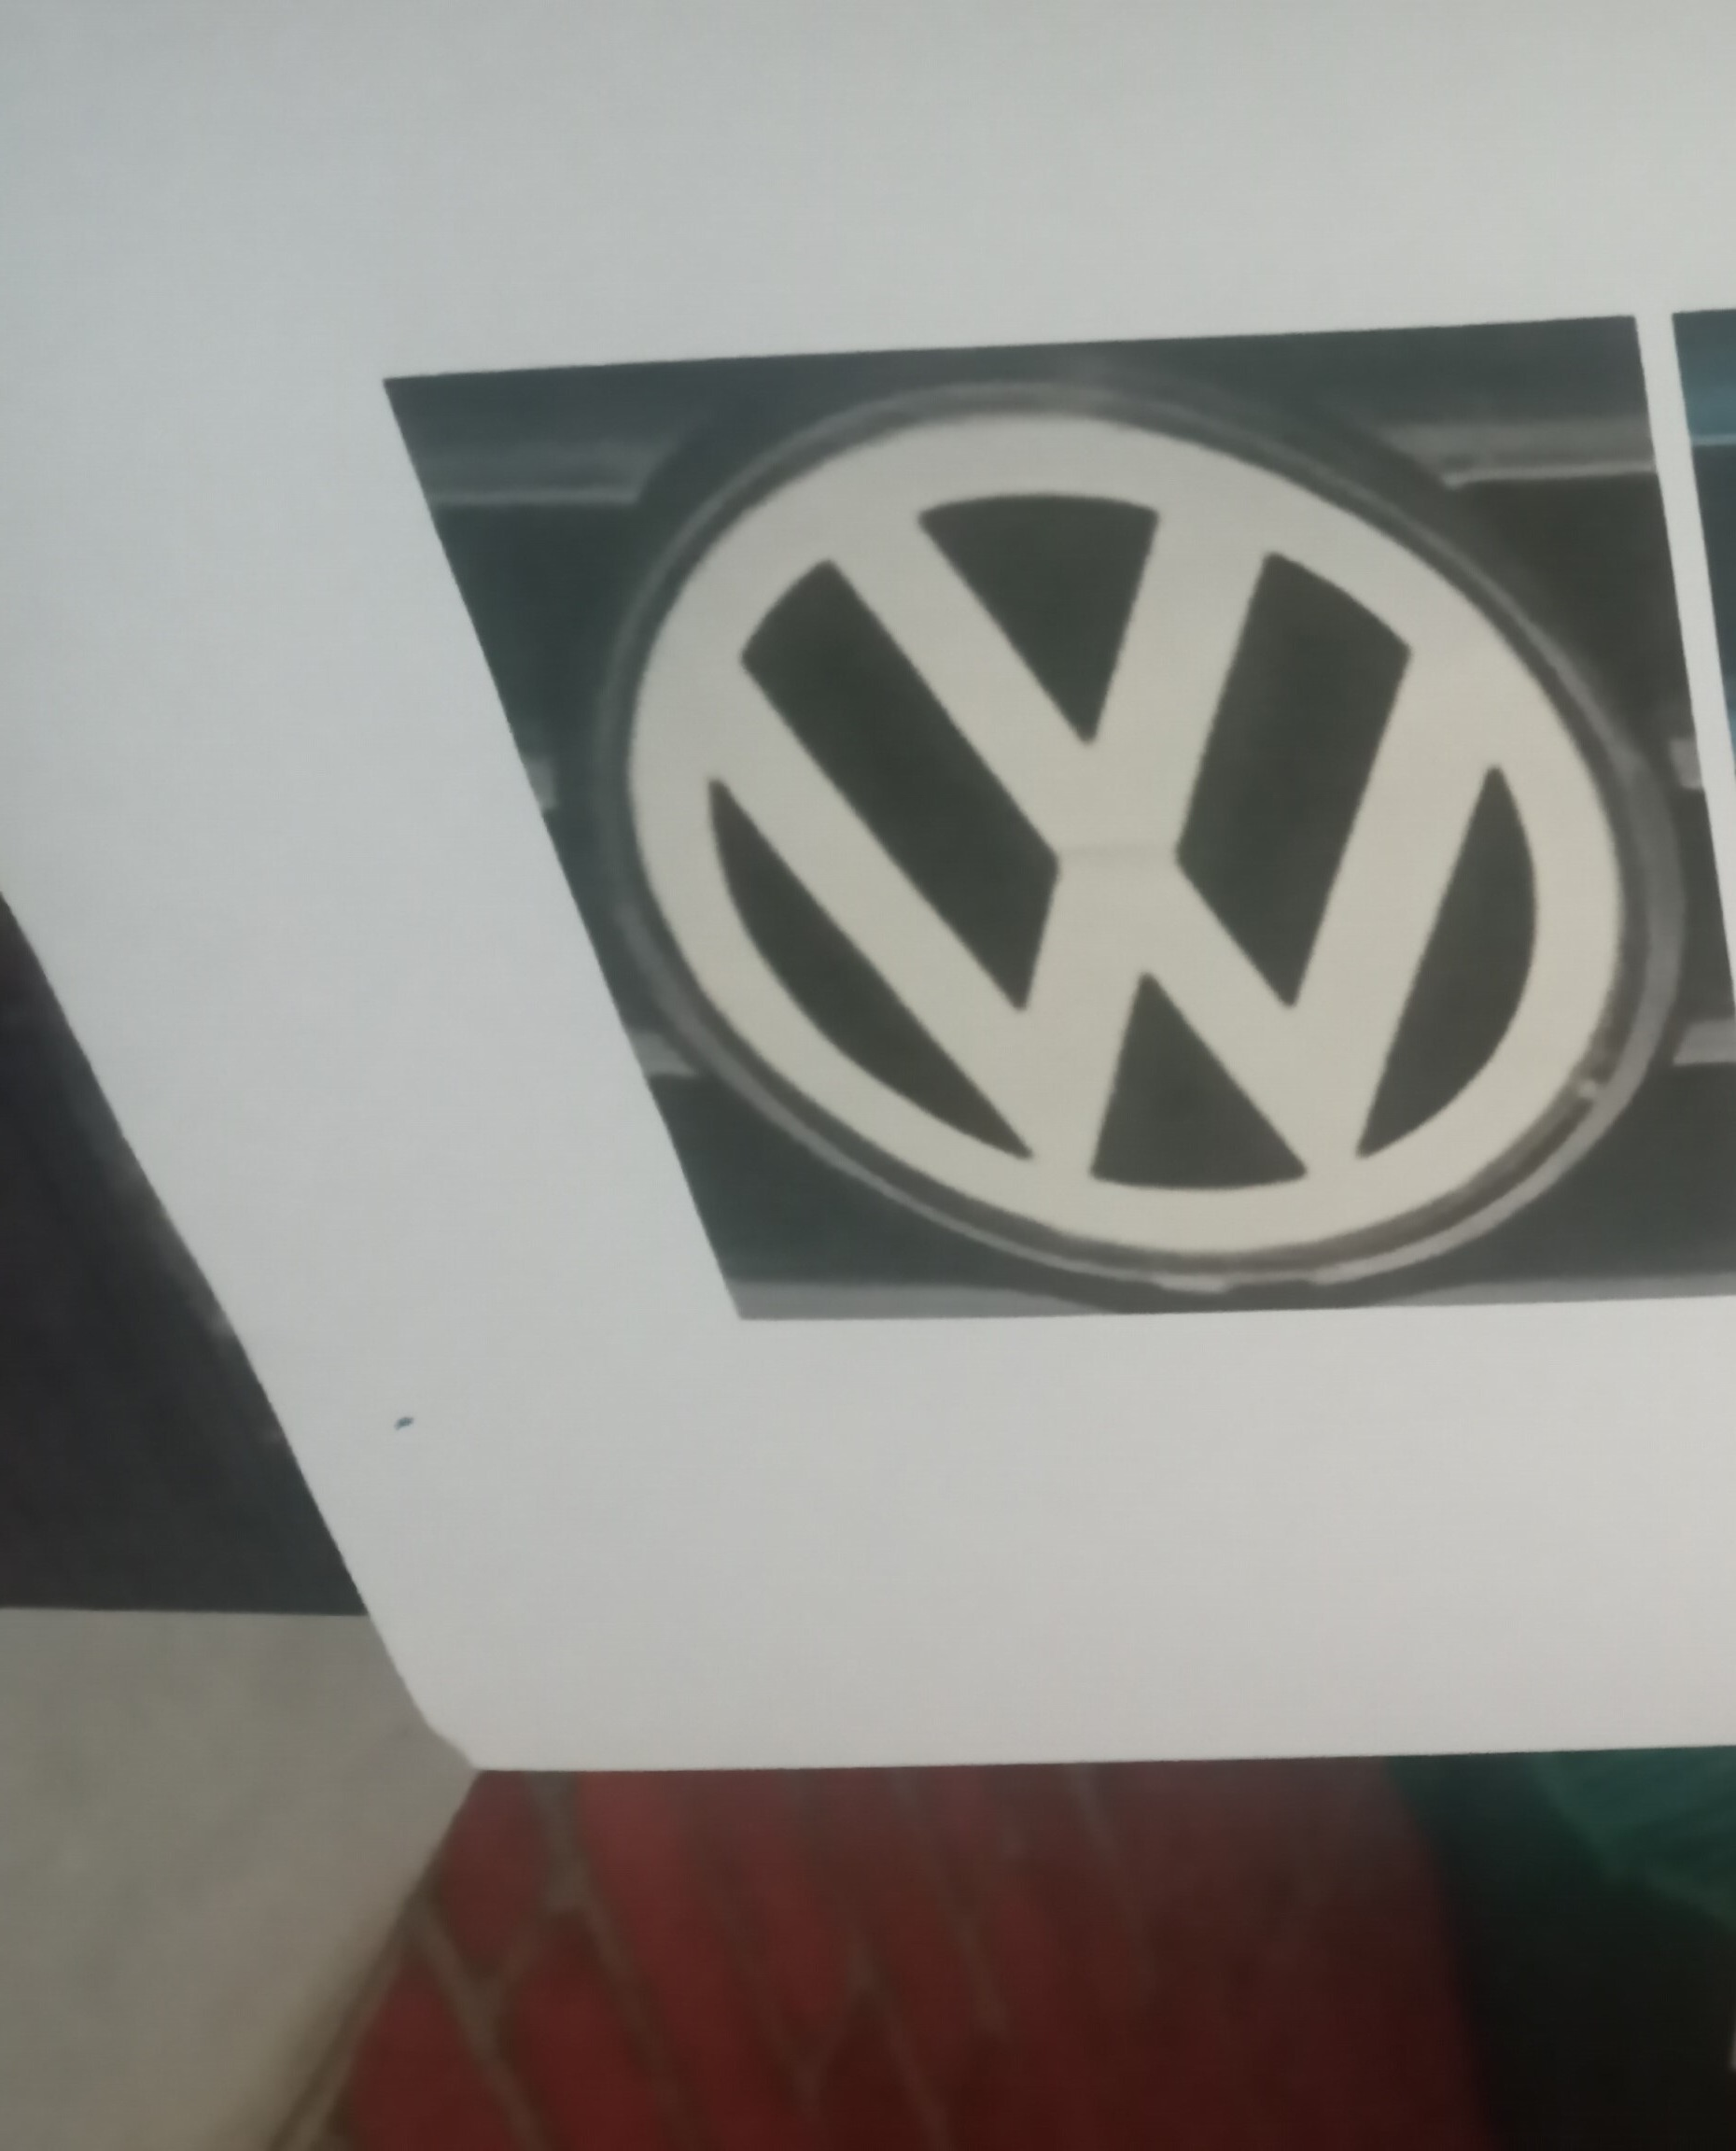Volkswagen: (593, 365, 1662, 1297)
